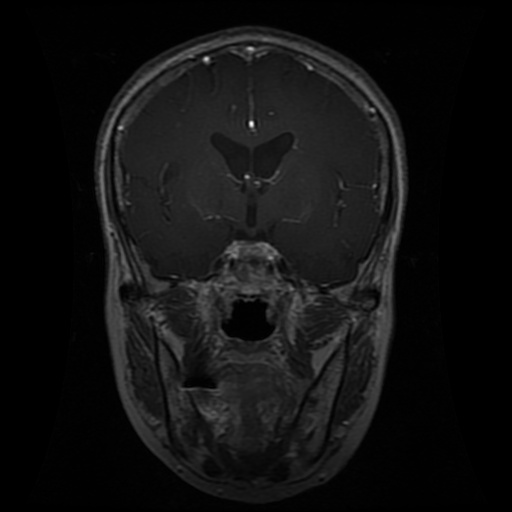glioma: (155, 158, 182, 222)
